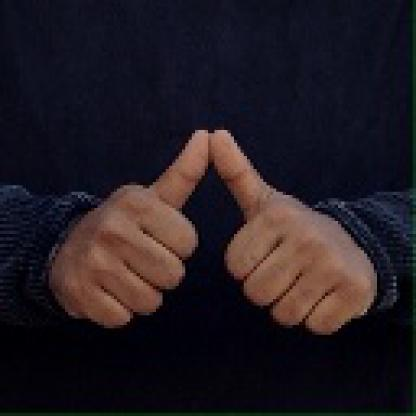A: (56, 118, 375, 331)
